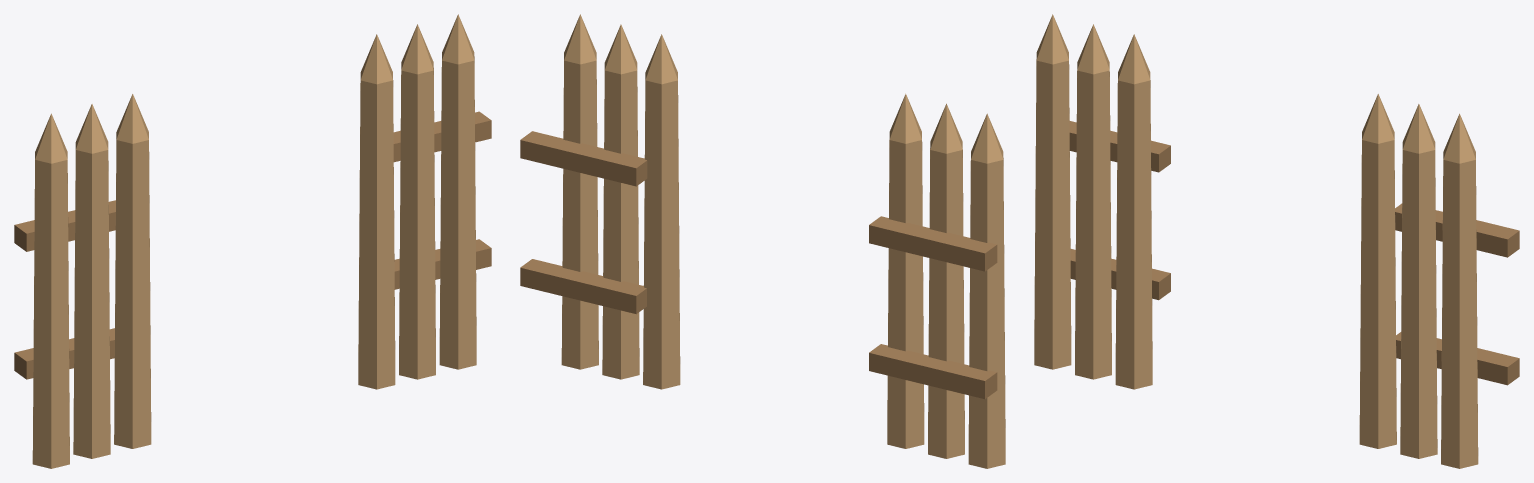
File: palisade-gate.glb
The picture shows the model from 3 angles, left to right: view 1: azimuth 30°, elevation 25°; view 2: azimuth 150°, elevation 25°; view 3: azimuth 330°, elevation 25°; orthographic projection.
Parts seen in each view (by area): view 1: palisade-gate; view 2: palisade-gate; view 3: palisade-gate.
Part boxes in pixels (left/top/right/bottom): palisade-gate: left=14, top=14, right=491, bottom=468; palisade-gate: left=520, top=14, right=1005, bottom=468; palisade-gate: left=1034, top=14, right=1519, bottom=468.
Bounding box in the file's own units: 4.01 × 2.85 × 0.4286.
